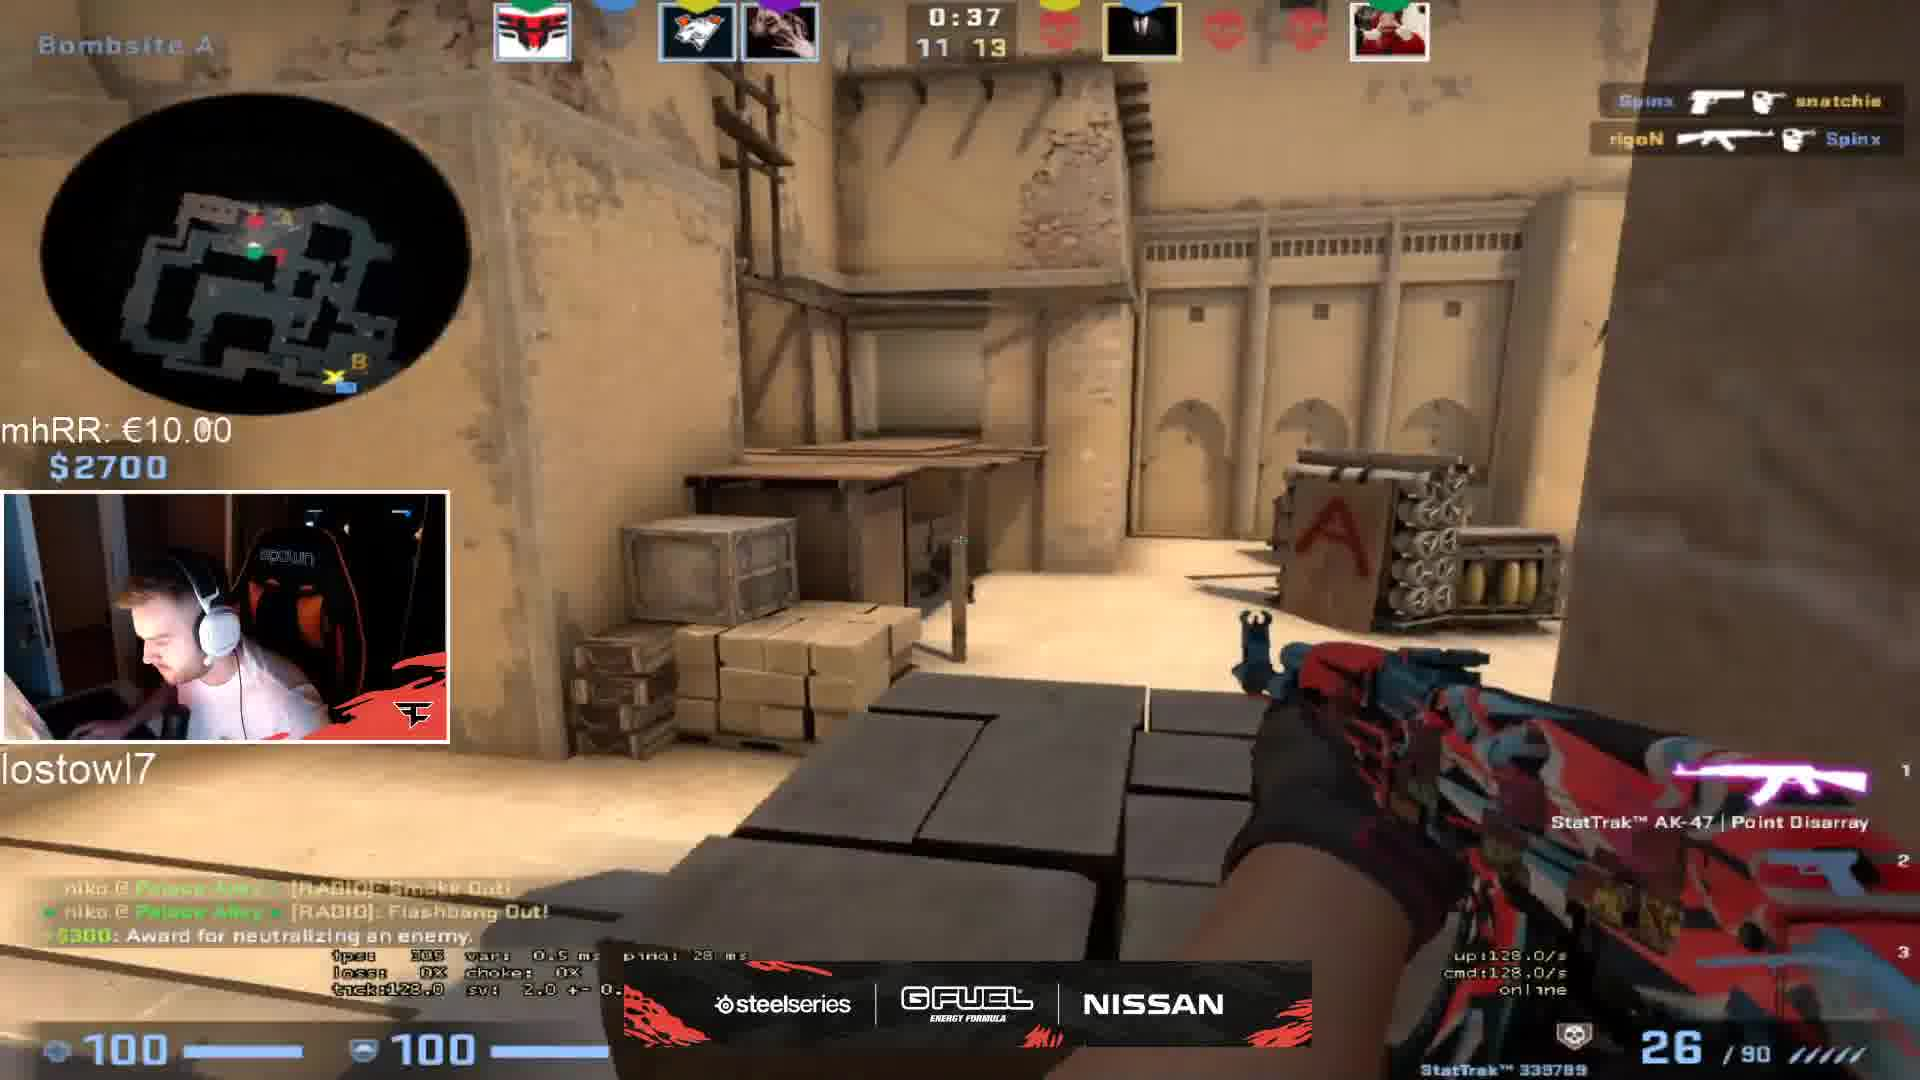enemy: (920, 530, 957, 600)
